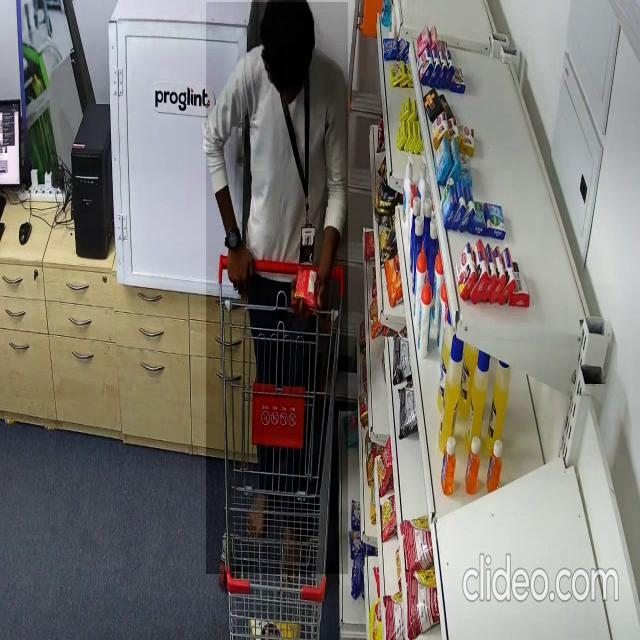normal: (206, 2, 348, 574)
